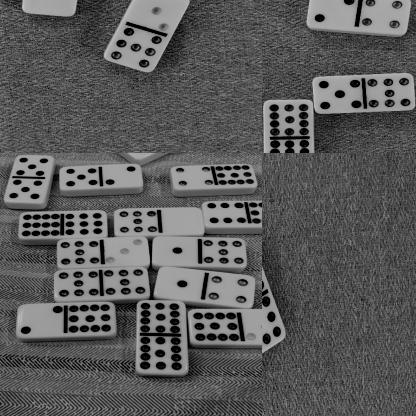pip-1: (156, 266, 208, 300), (152, 235, 200, 266), (22, 0, 79, 16), (117, 153, 163, 160)
pip-11: (135, 334, 189, 374), (264, 98, 315, 138), (188, 309, 242, 344), (66, 302, 116, 335), (138, 301, 186, 334), (215, 162, 258, 187), (249, 199, 262, 226)
pip-12: (19, 211, 63, 238), (263, 137, 316, 153)
pip-2: (18, 302, 66, 338), (307, 0, 358, 29), (102, 164, 142, 190)
pip-3: (133, 0, 190, 33), (104, 236, 151, 265), (243, 307, 262, 344)
pip-4: (208, 272, 258, 308), (359, 0, 411, 34), (173, 164, 214, 189)
pip-5: (313, 74, 364, 112), (5, 177, 50, 202), (60, 164, 102, 190), (10, 154, 56, 177)
pip-6: (204, 199, 248, 226)
pip-7: (105, 27, 164, 71), (364, 71, 416, 111), (54, 268, 101, 301), (104, 266, 151, 297), (58, 239, 104, 268), (201, 237, 247, 266), (114, 207, 159, 235)
pip-8: (262, 295, 286, 357)
pip-9: (63, 209, 108, 236)
